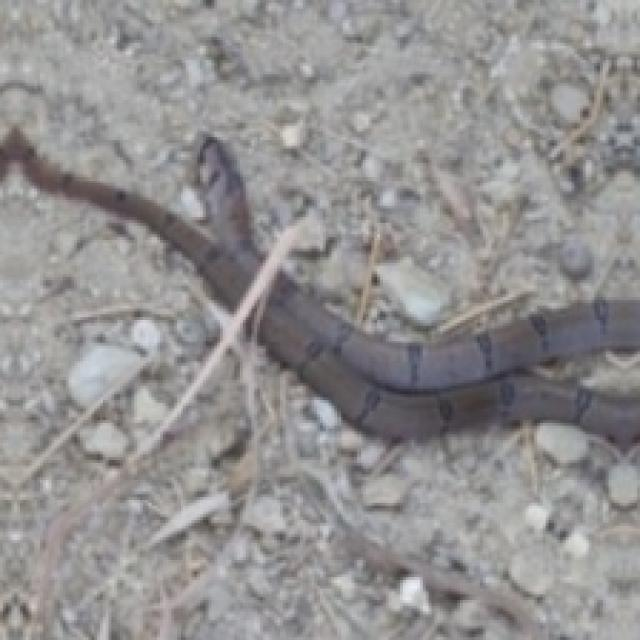northern short-headed snake: (260, 271, 637, 443), (0, 129, 257, 306)
